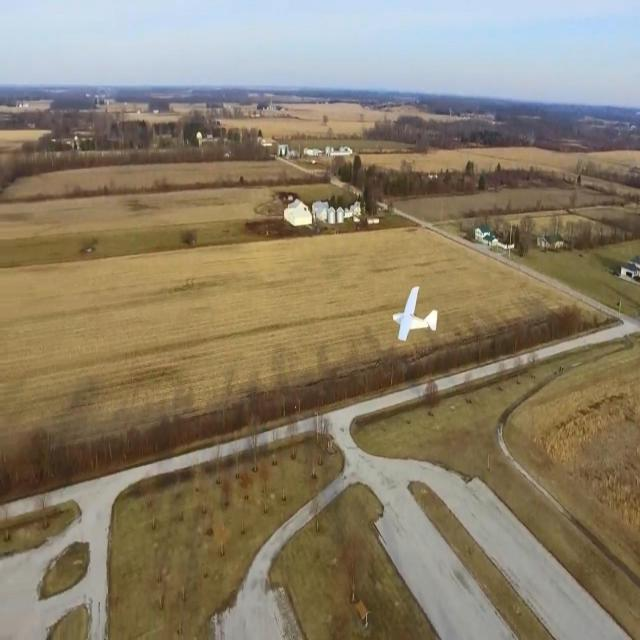UAV: (375, 278, 442, 342)
